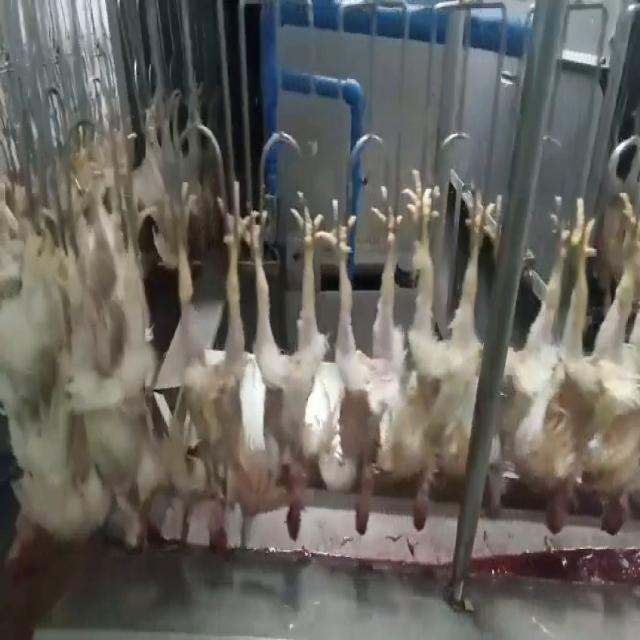chicken: (398, 172, 489, 536), (504, 192, 600, 537), (316, 177, 404, 538), (167, 179, 247, 554), (252, 183, 323, 542), (577, 183, 638, 537), (96, 215, 160, 552)
